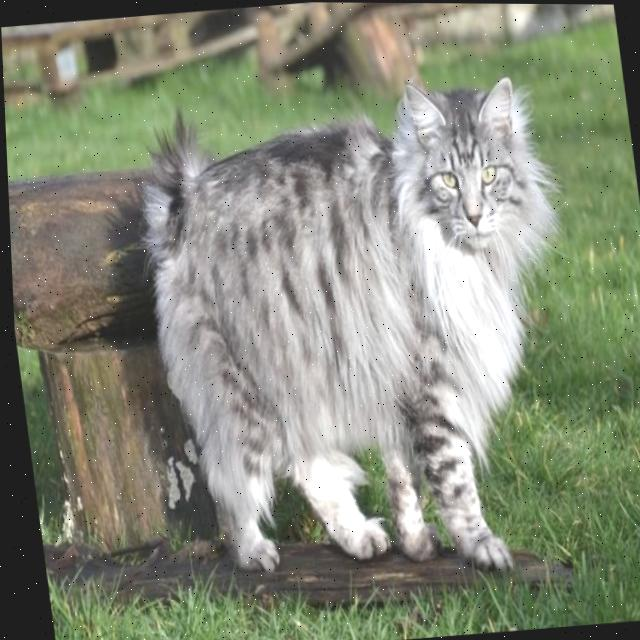American Bobtail: (120, 61, 603, 605)
